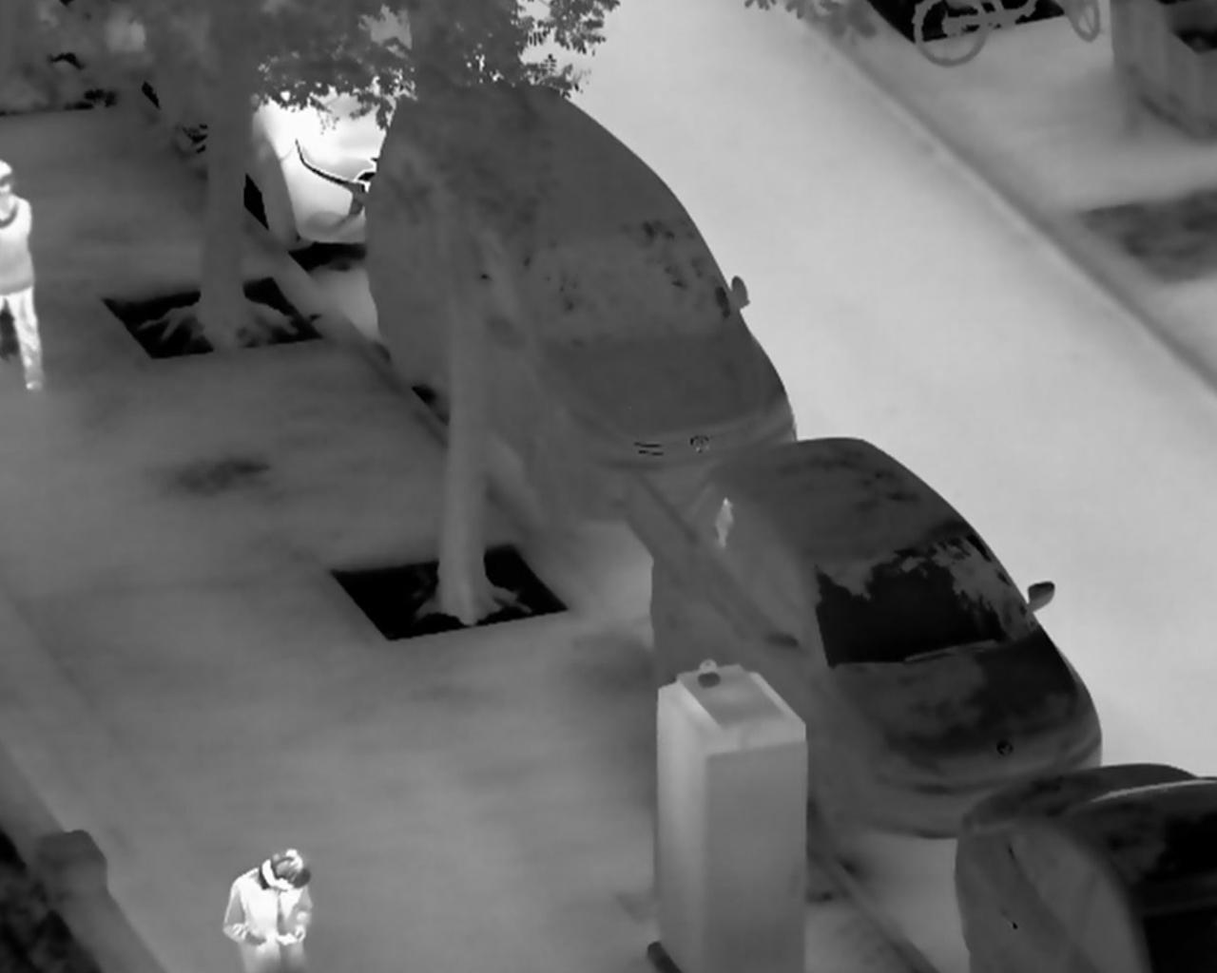person: (220, 846, 314, 973)
